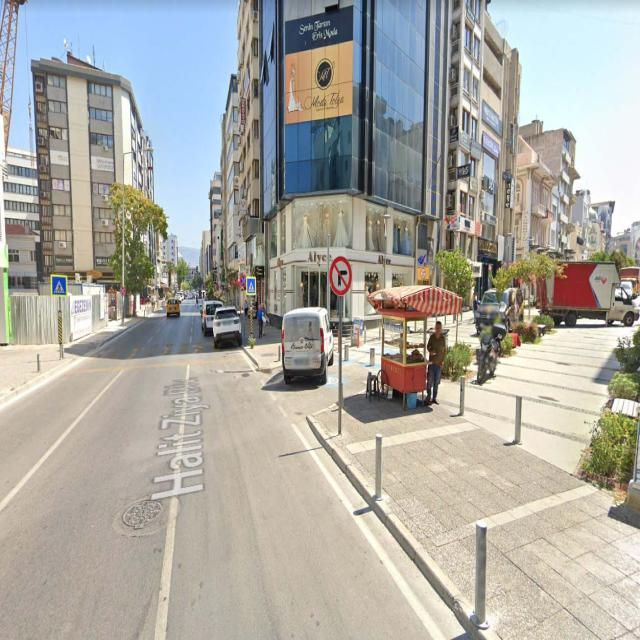sagadonulmez: (329, 258, 351, 297)
